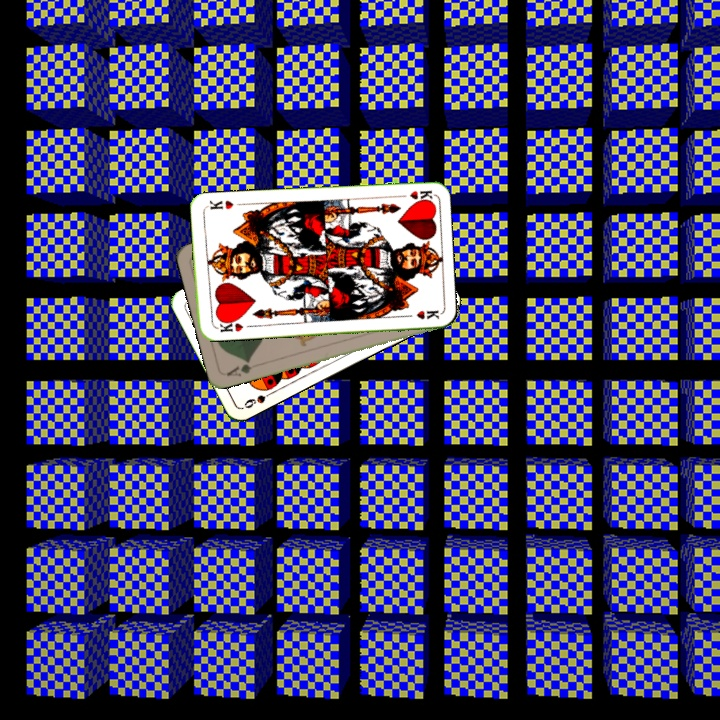GA: (223, 356, 254, 379)
HK: (393, 186, 434, 205), (215, 315, 245, 335)
S9: (240, 386, 278, 411)
